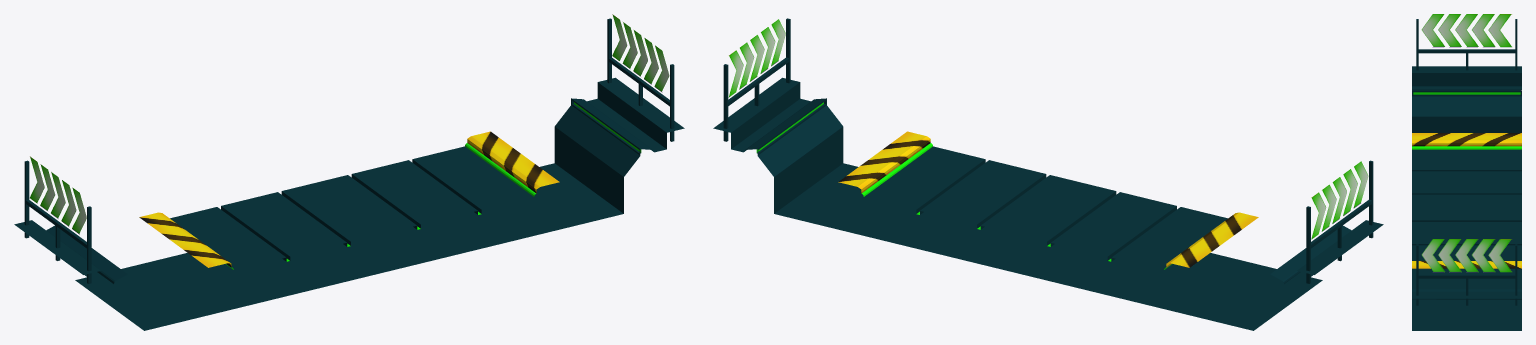
File: Pista_verde.fbx
The picture shows the model from 3 angles, left to right: view 1: azimuth 30°, elevation 25°; view 2: azimuth 150°, elevation 25°; view 3: azimuth 270°, elevation 25°; orthographic projection. The views are drawn at different scales.
Parts seen in each view (by area): view 1: Pista_verde; view 2: Pista_verde; view 3: Pista_verde.
Part boxes in pixels (x1,y1,x2,y2): Pista_verde: (14,14,684,330); Pista_verde: (713,18,1383,330); Pista_verde: (1412,14,1521,330).
Bounding box in the file's own units: 1002 × 225 × 200.
